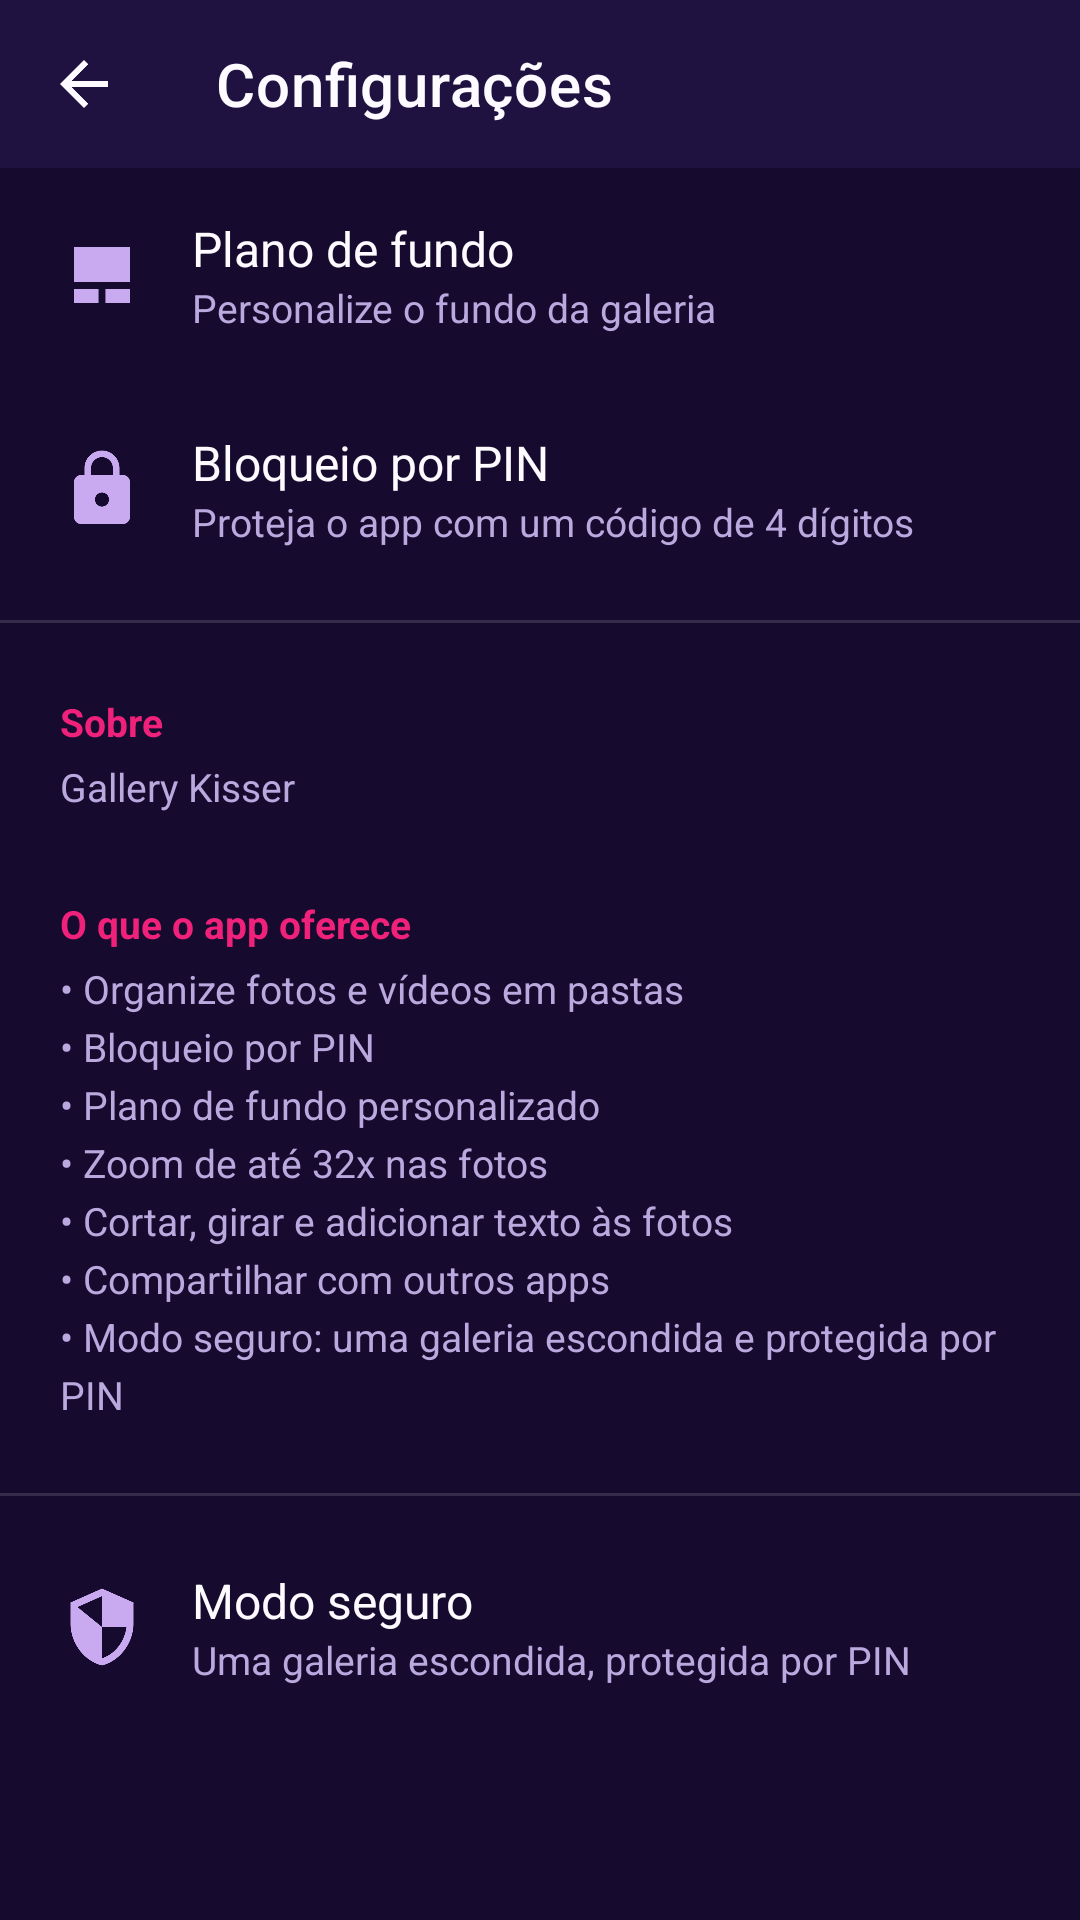

Icon bounding boxes for this 1080px×1920px phone screenshot, format (x1, y1, x2, y2):
lock: (74, 450, 130, 524)
shield: (70, 1589, 134, 1666)
